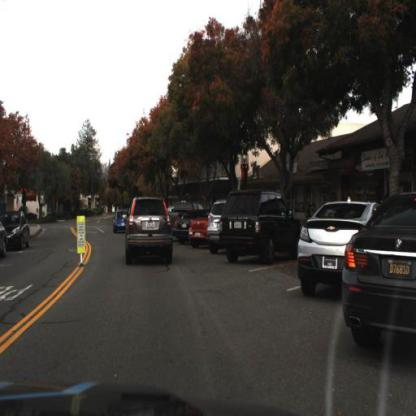car: (344, 192, 416, 354), (296, 194, 379, 300), (217, 185, 304, 264), (120, 195, 176, 270), (206, 192, 230, 254), (175, 202, 208, 245), (192, 209, 221, 251), (5, 211, 31, 255), (112, 208, 131, 238)
